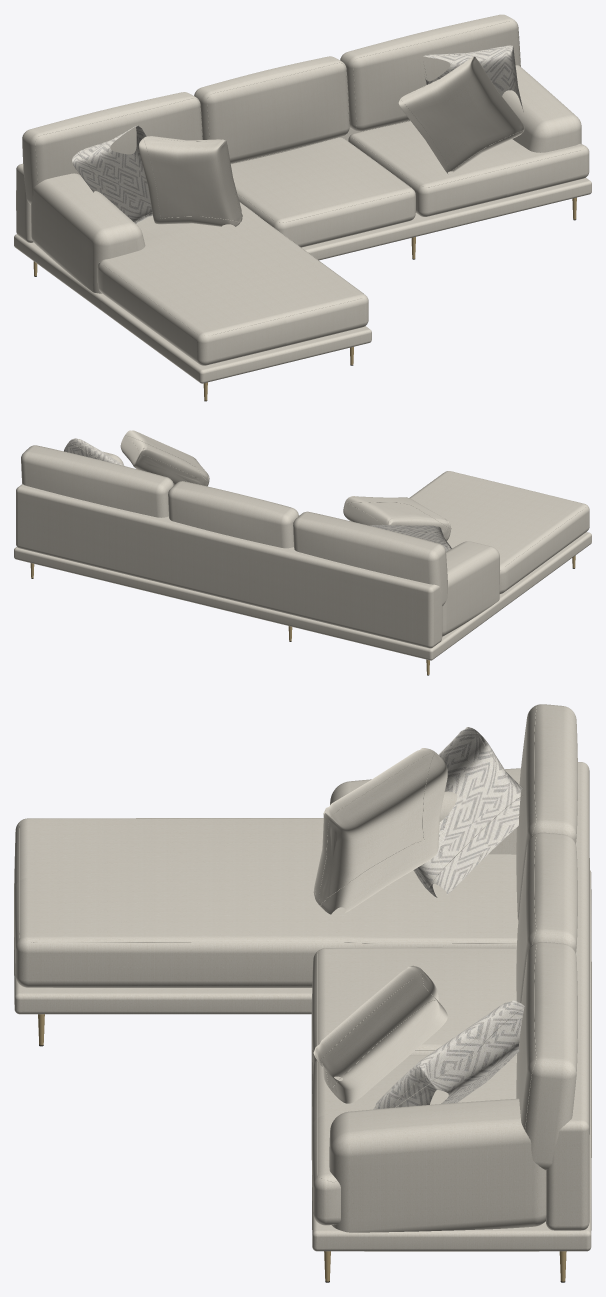
Rendered from chaise.glb.
3 renders of one model, top to bottom at view 1: azimuth 30°, elevation 25°; view 2: azimuth 150°, elevation 25°; view 3: azimuth 270°, elevation 25°, orthographic. The views are drawn at different scales.
Visible parts, largest first — view 1: fabric (×2), pillows (×2); view 2: fabric, pillows (×2); view 3: fabric (×2), pillows (×3).
Part boxes in pixels (<box>): fabric (×2): <box>14,14,591,383</box>; pillows (×2): <box>72,45,524,226</box>; fabric: <box>14,445,591,660</box>; pillows (×2): <box>64,430,451,551</box>; fabric (×2): <box>14,704,591,1251</box>; pillows (×3): <box>313,727,524,1109</box>.
Size of the model in its own units: 3 by 0.9143 by 2.
Materials: 5 (2 with a texture image).
